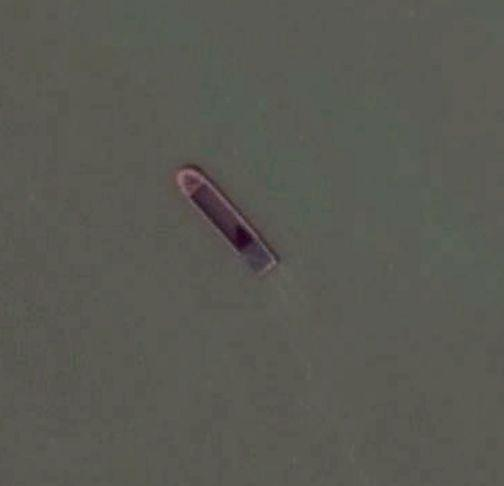Ships: (158, 153, 288, 291)
